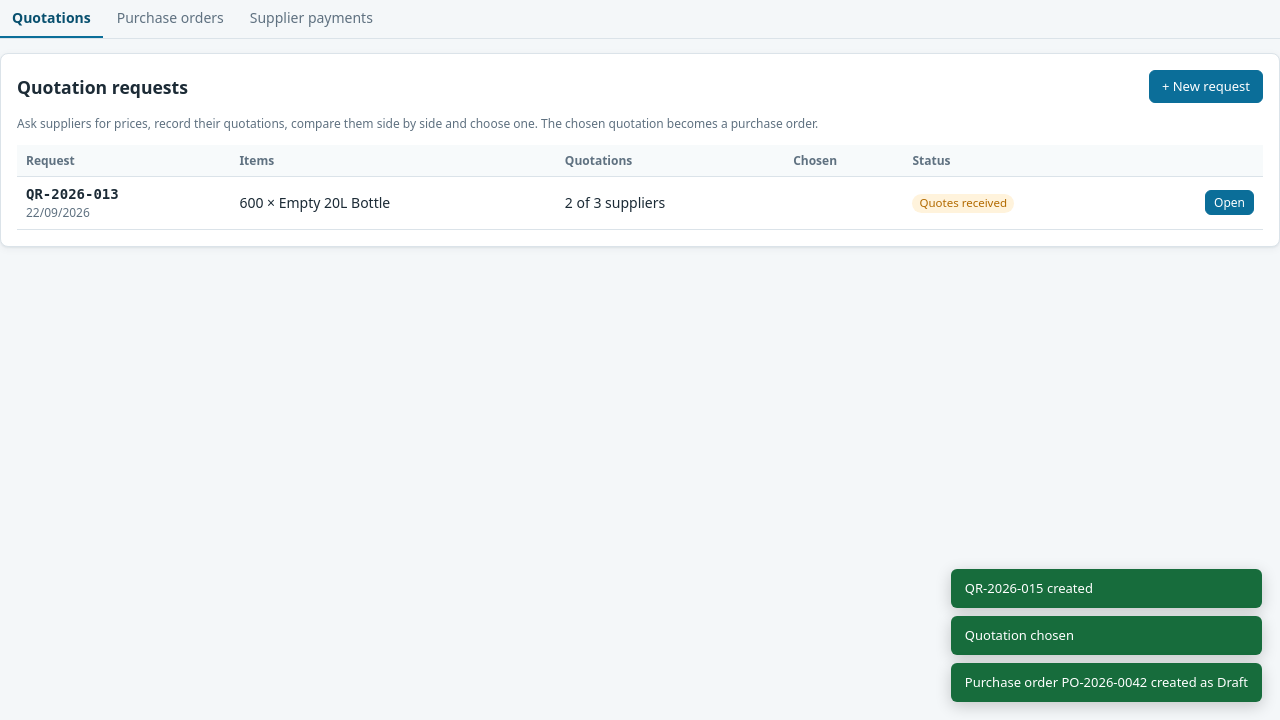
Test: Purchasing – purchase orders › edits a Draft and approves it with the changes saved first
Click the tab "Purchase orders": {"x": 170, "y": 19} [105,0,236,38]
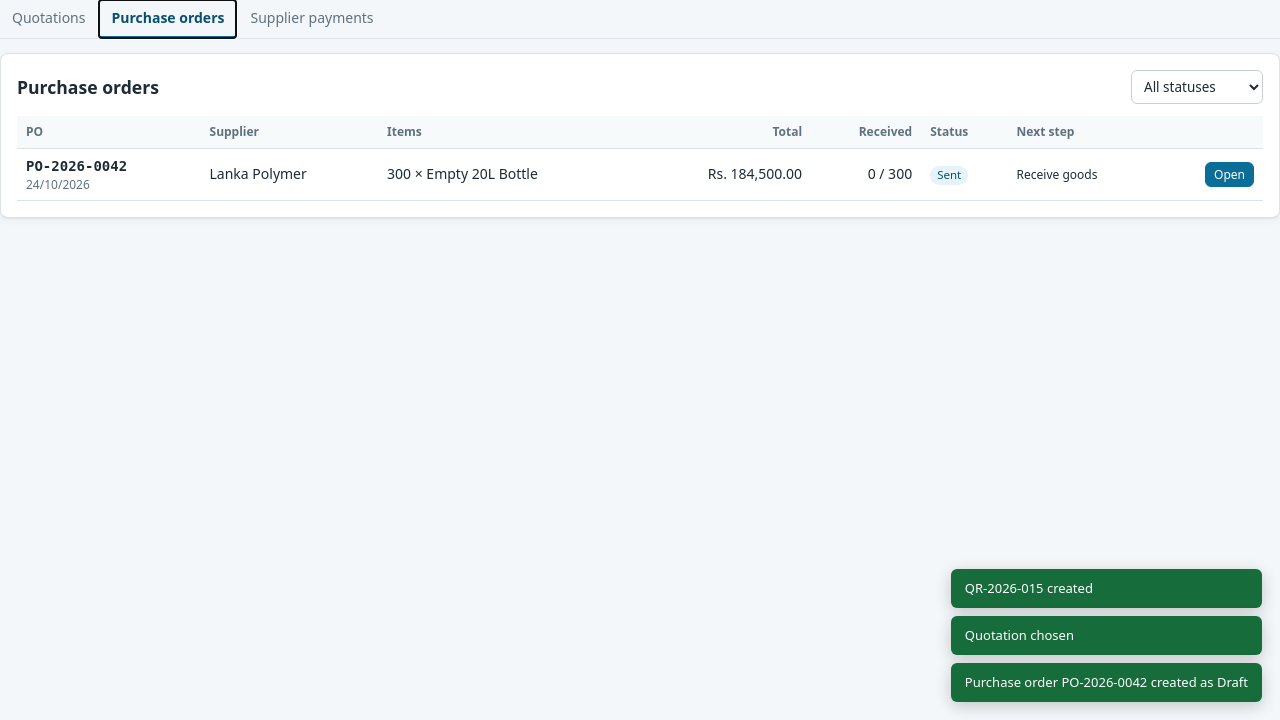
Click the button "Open": {"x": 1230, "y": 174} [1205,162,1254,187]
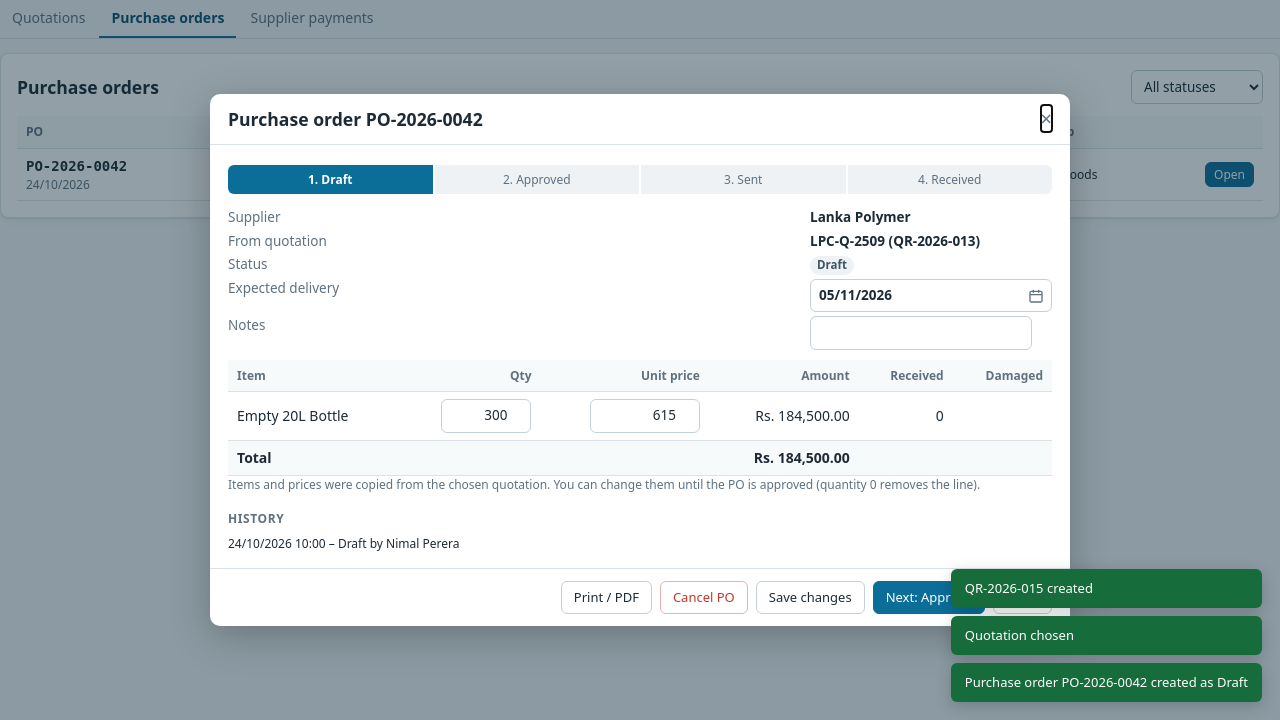
Clear the number field named "Quantity Empty 20L Bottle": {"x": 486, "y": 416} [442,399,532,433]
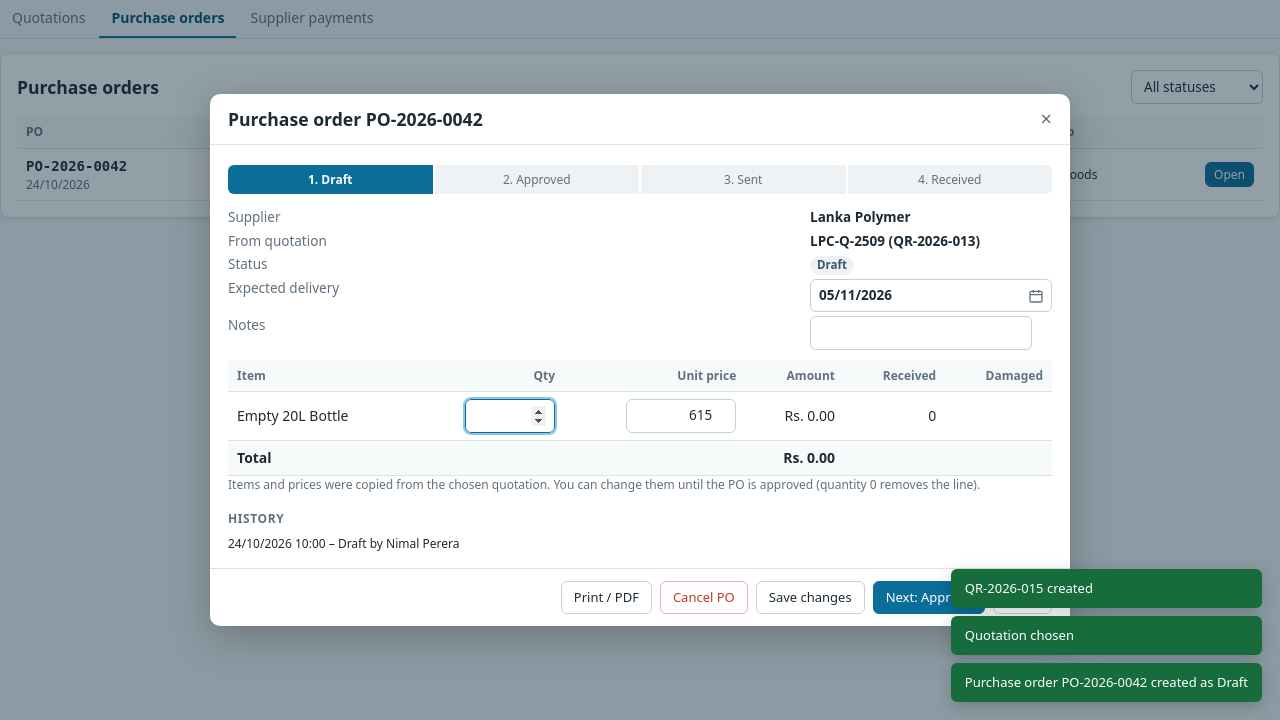
In the number field named "Quantity Empty 20L Bottle": {"x": 510, "y": 416} [465,399,555,433], type "200"
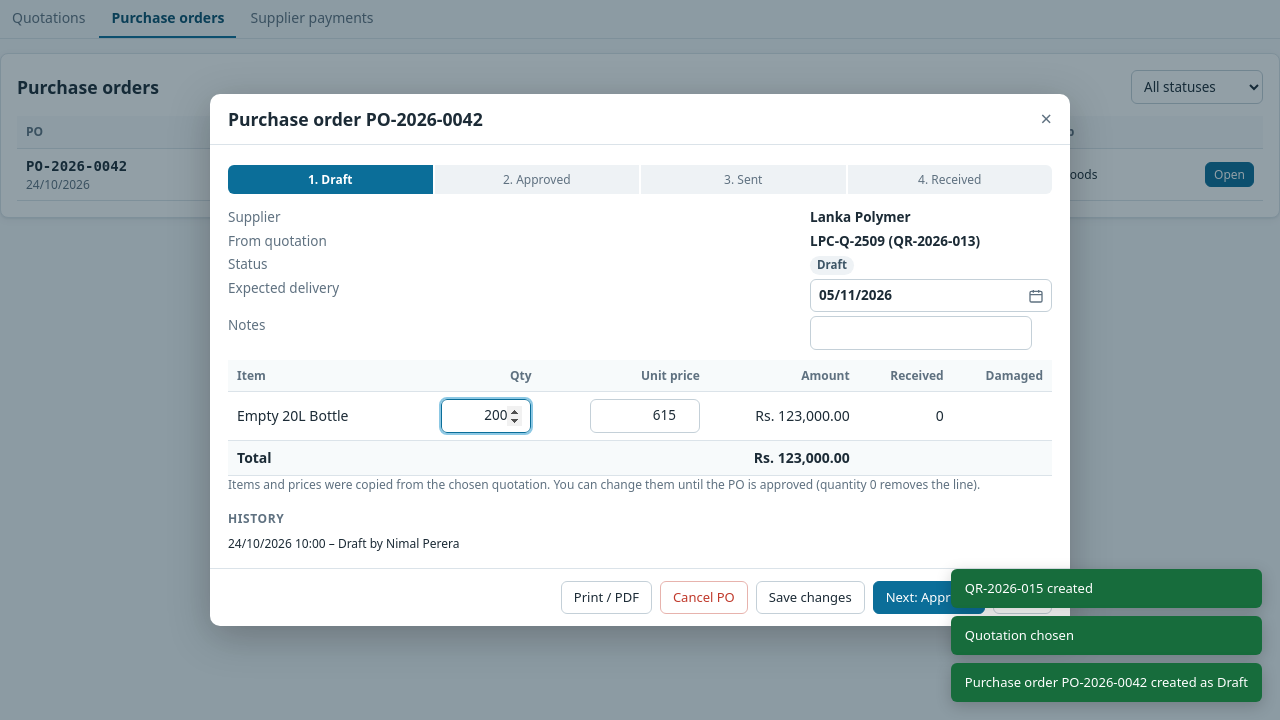
Check: the text "Total" shows "Rs. 123,000.00", box [754,448,850,467]
Click the button "Next: Approve": {"x": 929, "y": 598} [873,581,985,614]
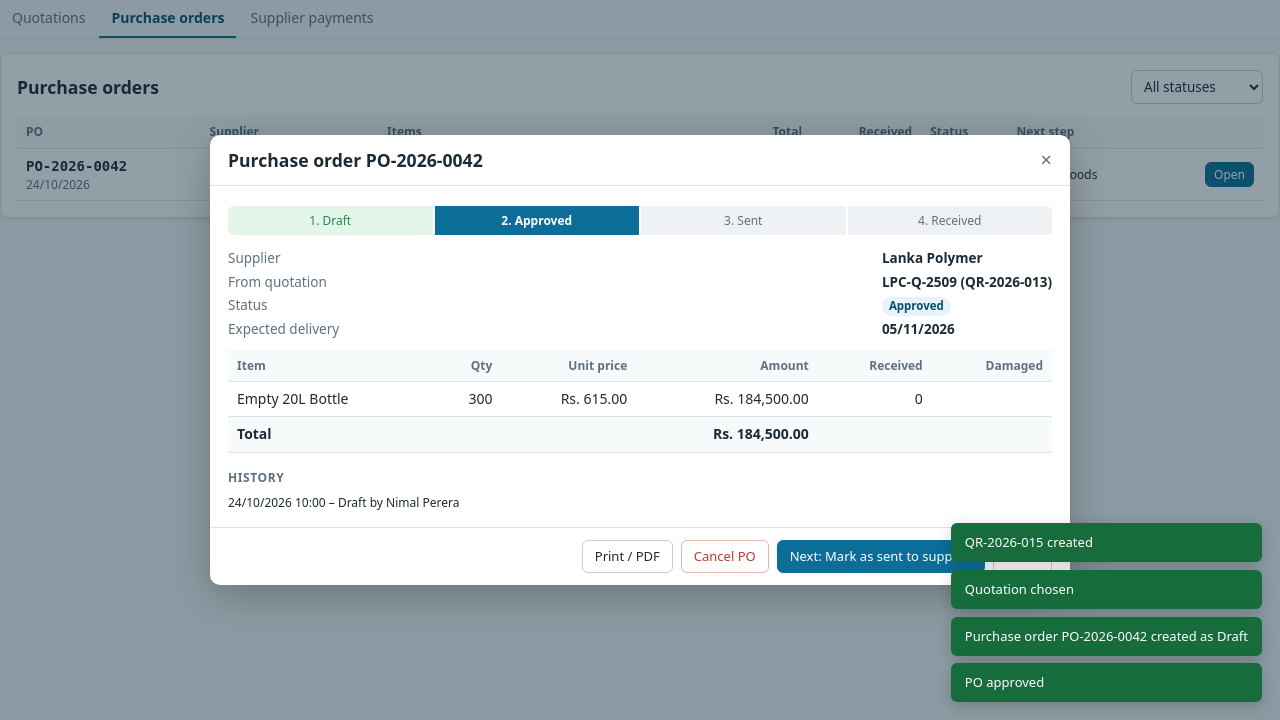
Check: the button "Next: Mark as sent to supplier" is shown, box [777,540,985,573]
